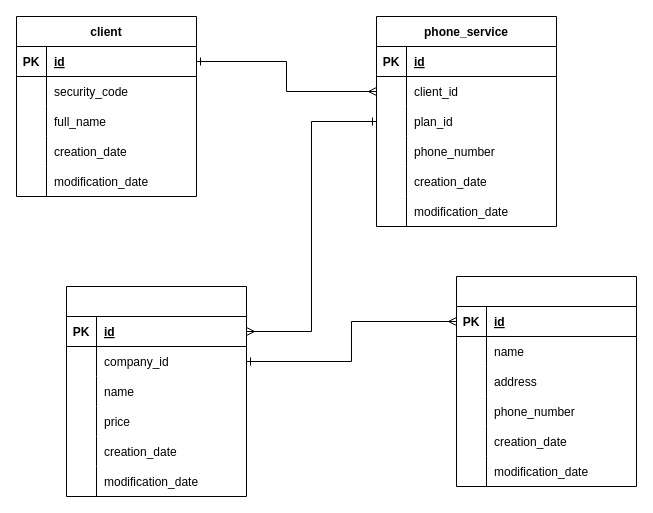
The diagram is 653 pixels wide and 513 high, and some of its shapes have lost their labels. Here are the shapes that lost their labels. From the top down, the box of each, then its label:
(66, 286, 246, 496): plan
(456, 276, 636, 486): company
